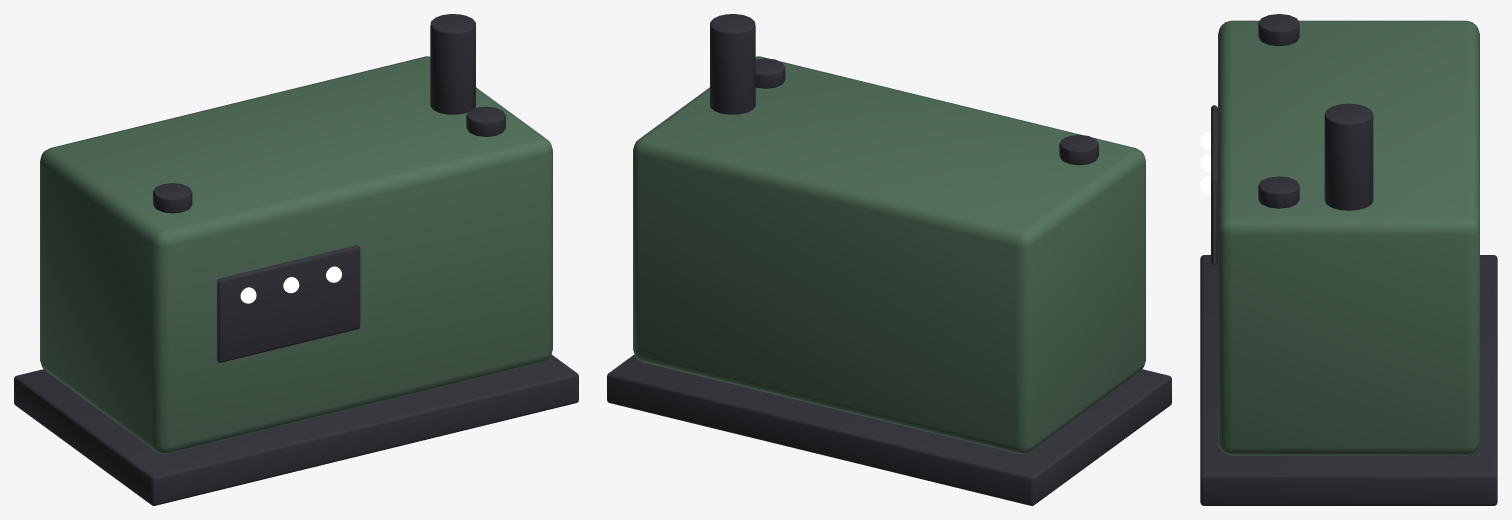
Rendered from generator.fbx.
3 renders of one model, left to right at view 1: azimuth 30°, elevation 25°; view 2: azimuth 150°, elevation 25°; view 3: azimuth 270°, elevation 25°, orthographic. The views are drawn at different scales.
Parts seen in each view (by area): view 1: body, frame, panel, exhaust, cap, cap.001; view 2: body, frame, exhaust, cap, cap.001; view 3: body, frame, exhaust, cap.001, cap, panel.
Part boxes in pixels (x1=…): body: x1=40, y1=56, x2=552, y2=453; frame: x1=14, y1=354, x2=578, y2=505; panel: x1=217, y1=245, x2=360, y2=362; exhaust: x1=430, y1=14, x2=475, y2=114; cap: x1=153, y1=183, x2=192, y2=213; cap.001: x1=466, y1=106, x2=505, y2=136; body: x1=633, y1=56, x2=1145, y2=453; frame: x1=607, y1=354, x2=1171, y2=505; exhaust: x1=710, y1=14, x2=755, y2=114; cap: x1=1059, y1=135, x2=1098, y2=165; cap.001: x1=755, y1=58, x2=785, y2=88; body: x1=1218, y1=20, x2=1479, y2=455; frame: x1=1200, y1=255, x2=1497, y2=505; exhaust: x1=1324, y1=103, x2=1373, y2=210; cap.001: x1=1258, y1=176, x2=1299, y2=208; cap: x1=1258, y1=14, x2=1299, y2=46; panel: x1=1211, y1=105, x2=1217, y2=265.
Size of what is drawn, in the model's own units: 150 by 115 by 85.
